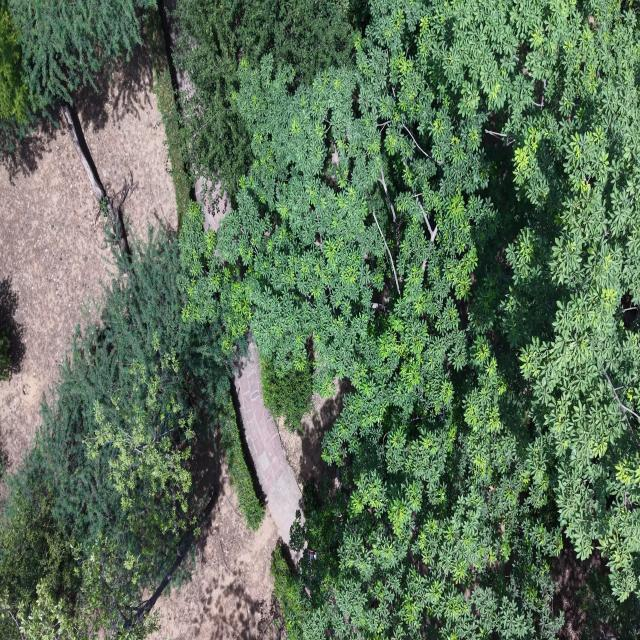DRY_AREA: (153, 342, 353, 639), (152, 344, 352, 639), (154, 342, 352, 639), (150, 346, 349, 639), (163, 343, 353, 639), (164, 343, 353, 639), (153, 344, 341, 639), (150, 343, 301, 639), (150, 344, 301, 639), (157, 343, 301, 639), (150, 366, 301, 639), (0, 125, 110, 471), (0, 126, 110, 472), (0, 127, 110, 472), (0, 125, 110, 469), (231, 341, 344, 570), (149, 465, 284, 639), (235, 342, 349, 544), (236, 344, 353, 533), (235, 341, 341, 544), (236, 366, 352, 487), (235, 341, 304, 544), (235, 342, 302, 544), (278, 379, 353, 503), (236, 342, 290, 496), (279, 380, 352, 488), (279, 380, 352, 486), (551, 544, 603, 639), (194, 176, 230, 230), (195, 177, 230, 231)
PATHWAYS: (235, 342, 301, 544), (235, 343, 301, 544)
VEGETATION_TREE: (0, 0, 639, 639), (189, 0, 639, 638), (0, 2, 263, 639), (0, 233, 239, 639), (165, 0, 365, 216), (0, 0, 190, 218), (0, 0, 154, 250), (175, 0, 364, 199), (7, 0, 153, 108), (178, 202, 249, 358), (180, 202, 251, 354), (180, 203, 251, 351), (145, 9, 192, 228), (576, 556, 639, 639), (220, 414, 265, 530), (0, 0, 32, 152), (260, 359, 312, 431), (0, 0, 29, 123), (270, 545, 303, 638), (0, 279, 22, 388), (0, 278, 23, 382), (0, 327, 11, 380), (0, 448, 7, 479)
